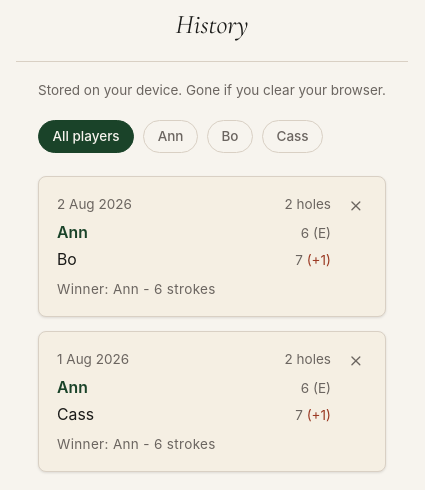
Test: History — player filter (#51 / #61) › shows a chip per distinct player once two or more appear, and filters the list on tap
The image size is (425, 490).
Check: the button "All players" is shown, box [38,120,134,153]
Check: the button "Cass" below "1 Aug 2026" is shown, box [57,404,94,426]
Note: Filter to Bo — only g1 (Ann + Bo) matches, so g2 (Ann + Cass) leaves the list.
Click the 1st button "Bo" at [230, 136], box [207,120,253,153]
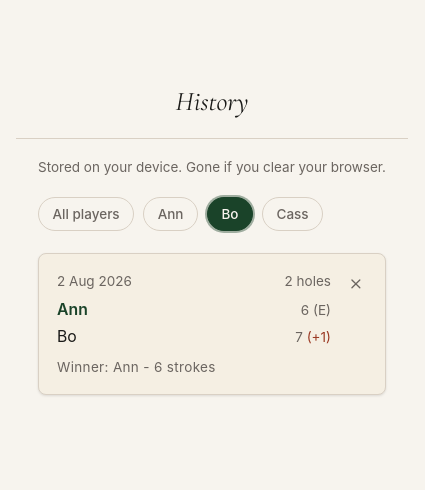
Check: the button "Bo" in the row of "+1" is shown, box [57,326,77,349]
Note: "All players" clears the filter — g2 is back.
Click the button "All players" at [86, 214], box [38,197,134,231]
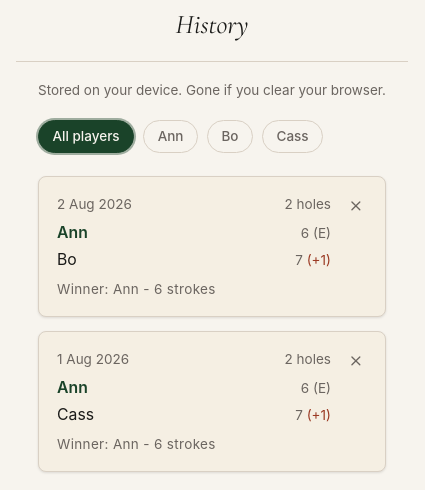
Check: the button "Cass" below "1 Aug 2026" is shown, box [57,404,94,426]
